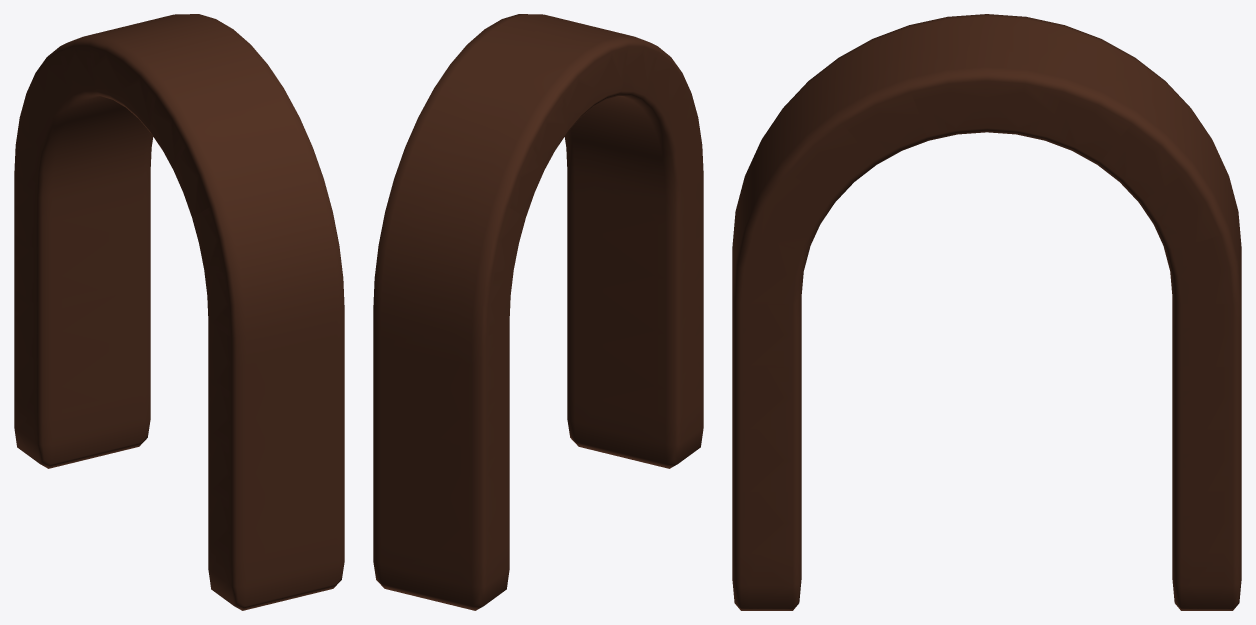
File: DoorFrame.obj
The picture shows the model from 3 angles, left to right: view 1: azimuth 30°, elevation 25°; view 2: azimuth 150°, elevation 25°; view 3: azimuth 270°, elevation 25°; orthographic projection. The views are drawn at different scales.
Parts seen in each view (by area): view 1: DoorFrame1 Doors1 HouseBase1; view 2: DoorFrame1 Doors1 HouseBase1; view 3: DoorFrame1 Doors1 HouseBase1.
Boxes of the visible parts, x1,y1,x2,y2 form: DoorFrame1 Doors1 HouseBase1: [14, 14, 344, 610]; DoorFrame1 Doors1 HouseBase1: [373, 14, 703, 610]; DoorFrame1 Doors1 HouseBase1: [732, 14, 1241, 610].
Size of the model in its own units: 1.72 by 6.95 by 5.89.
